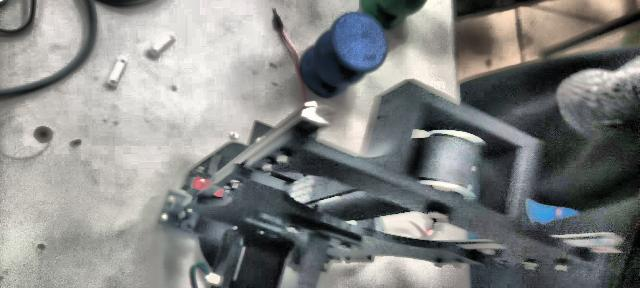blue: (299, 12, 387, 98)
